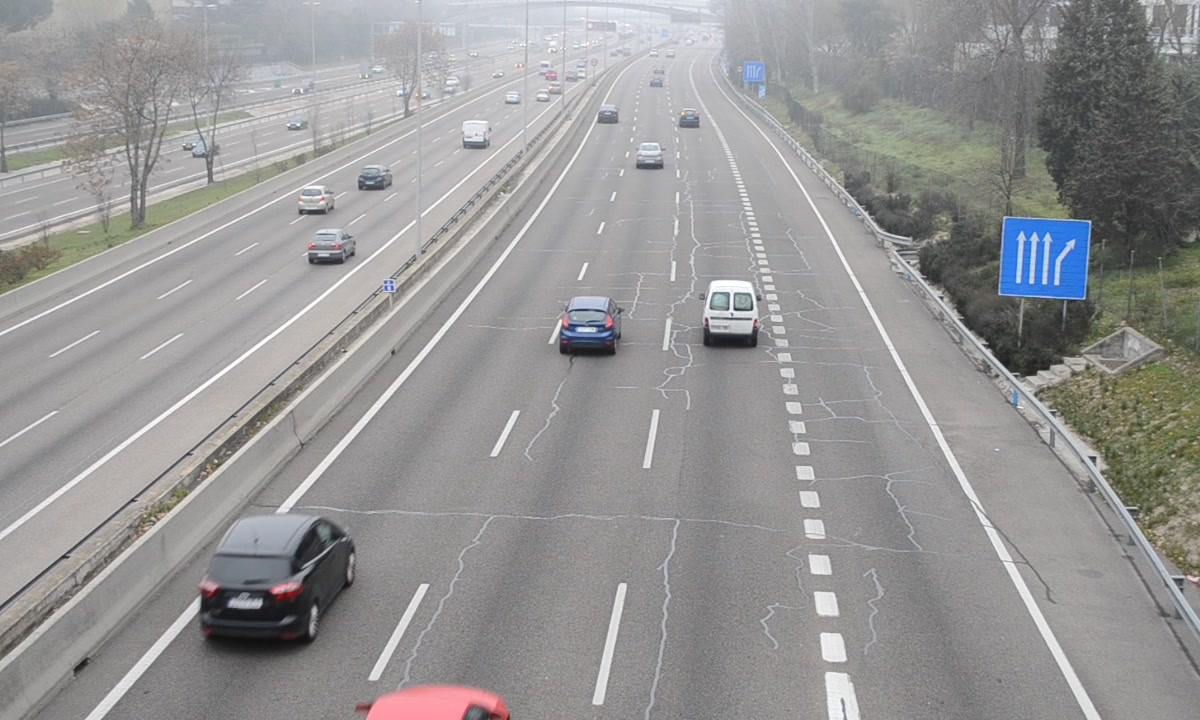car: (201, 515, 353, 643), (559, 297, 621, 352), (635, 143, 663, 168), (678, 108, 701, 130), (598, 103, 620, 125)
van: (703, 280, 759, 345)
